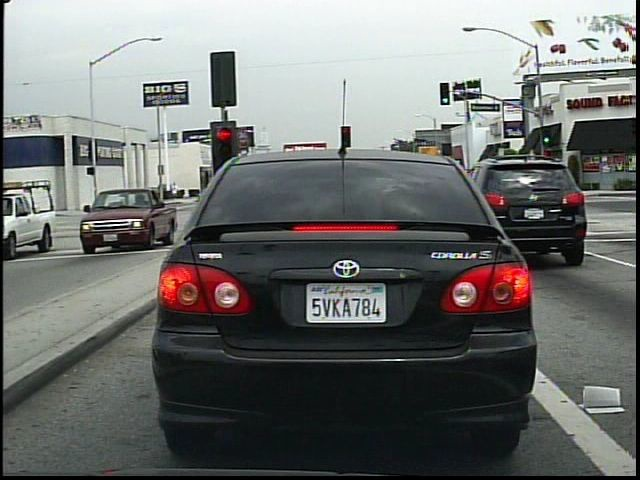person: (170, 179, 182, 204)
